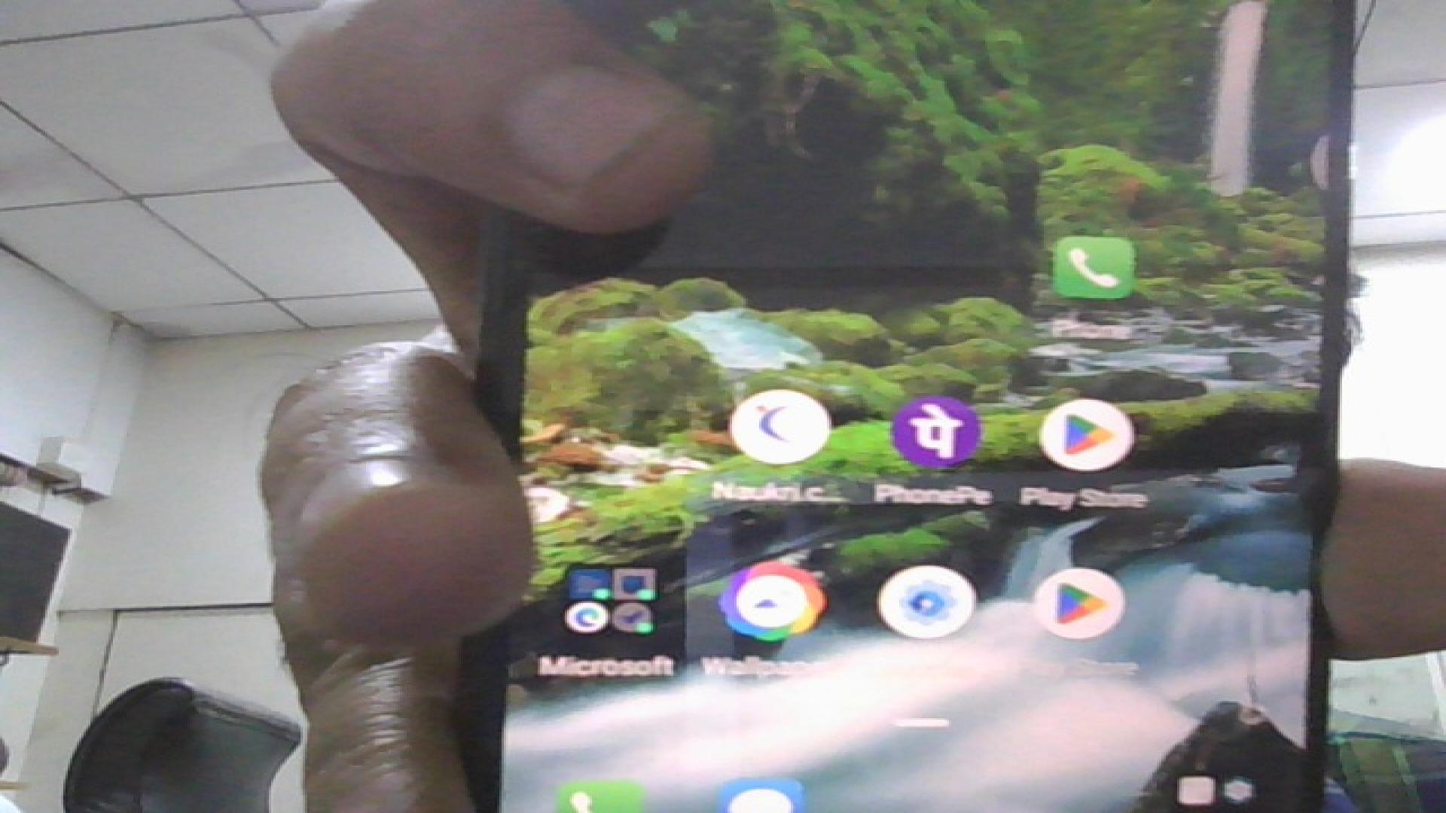phone: (486, 0, 1342, 813)
